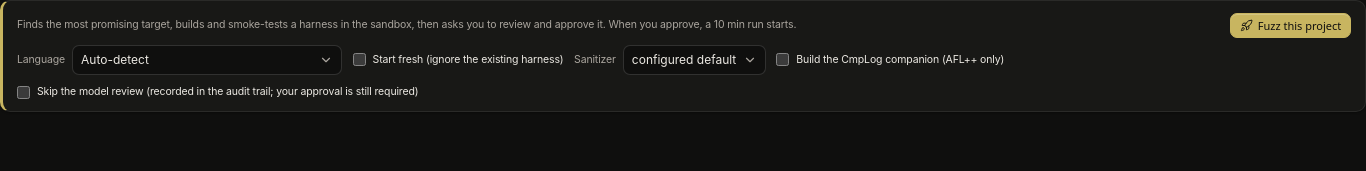
shows the built revision for review when preparation fails after its smoke test ran
Step 1. Click the button "Fuzz this project" → coordinates (1290, 25), box top-left (1230, 13), bottom-right (1351, 38)
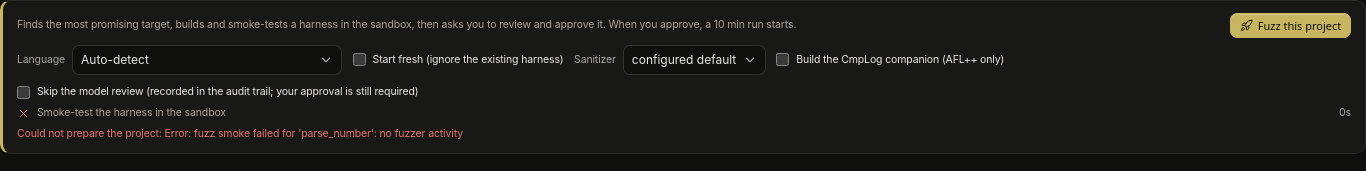
Expected: the text "no fuzzer activity" is shown, top-left (17, 127), bottom-right (463, 140)
